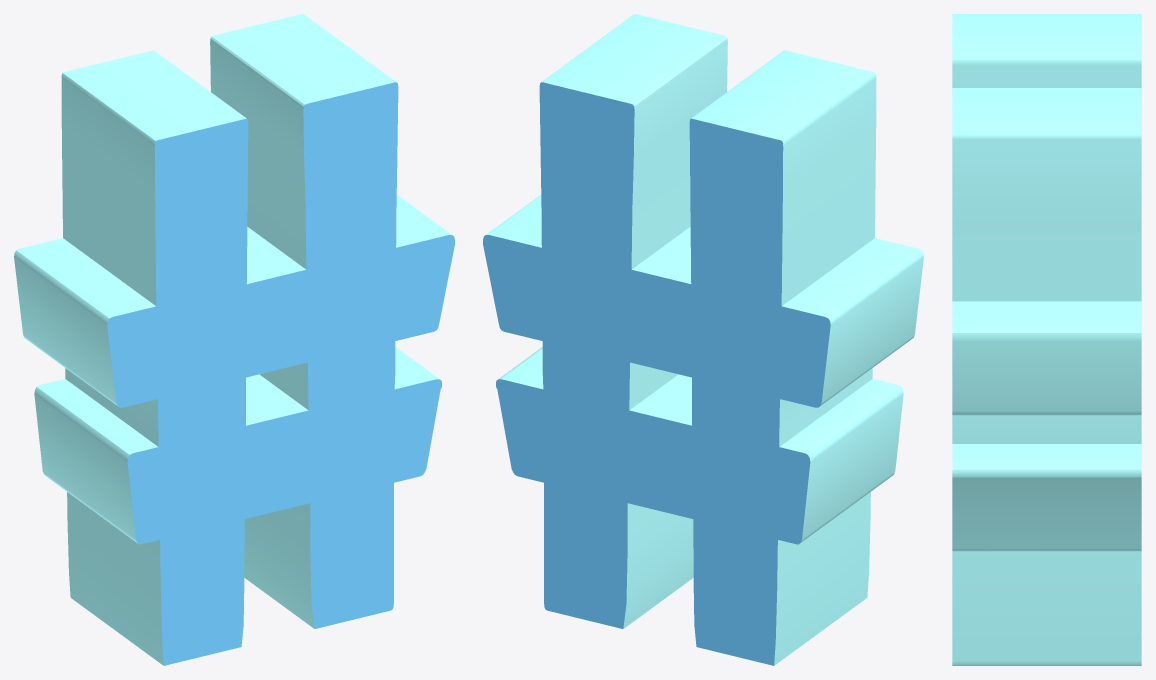
3 renders of one model, left to right at view 1: azimuth 30°, elevation 25°; view 2: azimuth 150°, elevation 25°; view 3: azimuth 270°, elevation 25°, orthographic.
Visible parts, largest first — view 1: #; view 2: #; view 3: #.
Part boxes in pixels (left/top/right/bottom): #: left=14, top=14, right=454, bottom=665; #: left=483, top=14, right=923, bottom=665; #: left=952, top=14, right=1141, bottom=665.
Size of what is drawn, in the model's own units: 0.3874 by 0.5613 by 0.18.
